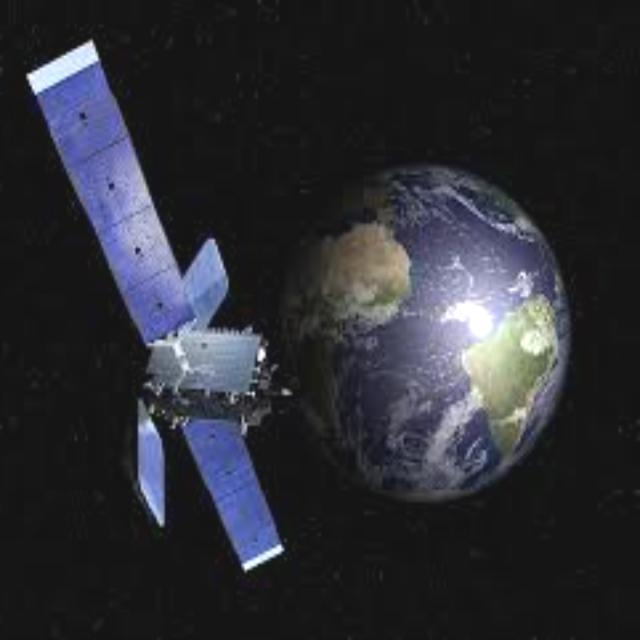satellite: (15, 0, 299, 603)
